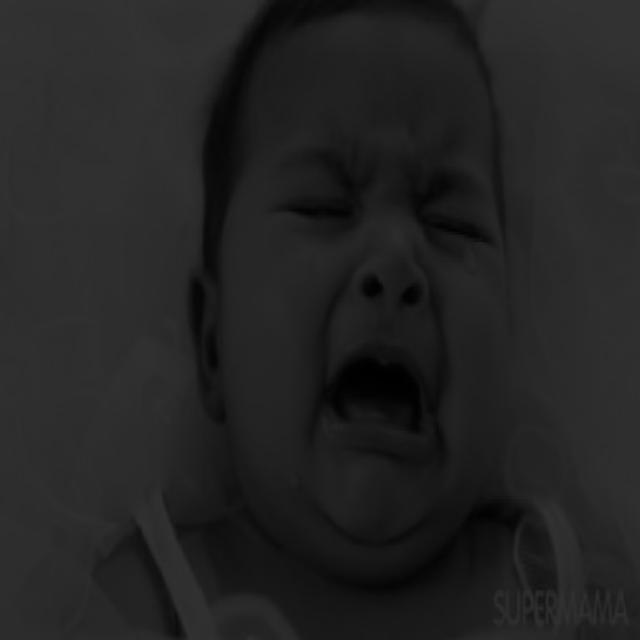Sad: (189, 87, 573, 580)
